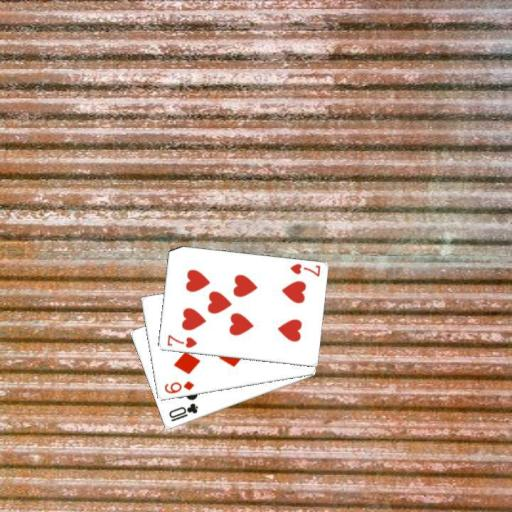10C: (166, 400, 200, 423)
6D: (161, 379, 196, 396)
7H: (164, 331, 199, 350), (287, 260, 322, 278)
